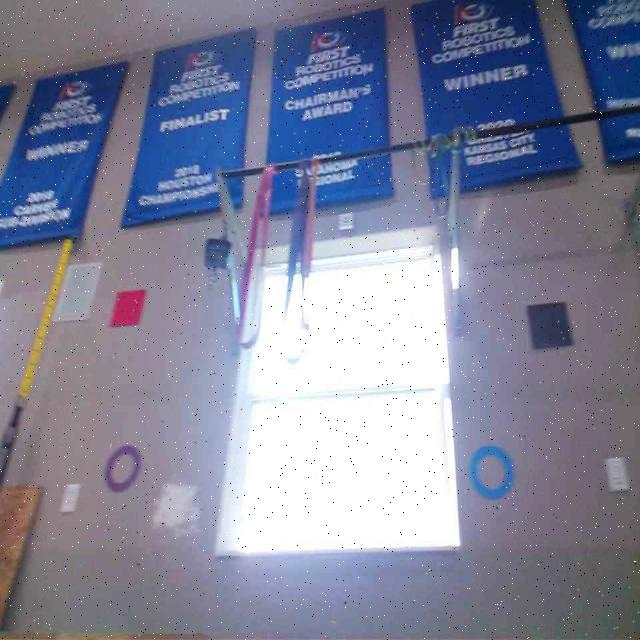ring_blue: (468, 442, 515, 498)
ring_purple: (102, 442, 140, 491)
square_black: (526, 300, 574, 350)
square_red: (109, 287, 145, 325)
